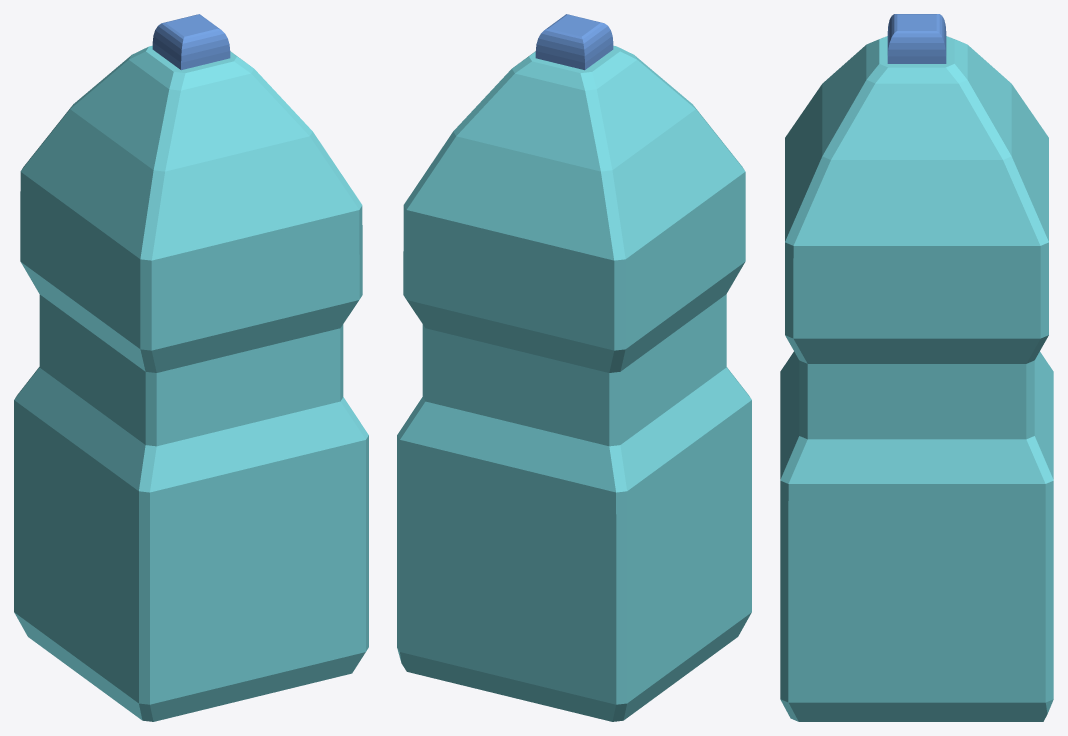
File: Bottle.fbx
3 views of the same model, side by side, from view 1: azimuth 30°, elevation 25°; view 2: azimuth 150°, elevation 25°; view 3: azimuth 270°, elevation 25° (orthographic). The views are drawn at different scales.
Parts seen in each view (by area): view 1: Cube; view 2: Cube; view 3: Cube.
Boxes of the visible parts, x1,y1,x2,y2 form: Cube: [14, 14, 368, 721]; Cube: [397, 14, 751, 721]; Cube: [780, 14, 1053, 721].
Bounding box in the file's own units: 193 × 503 × 193.
